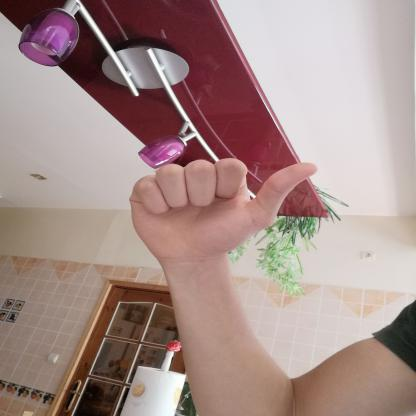DAD: (119, 150, 326, 272)
